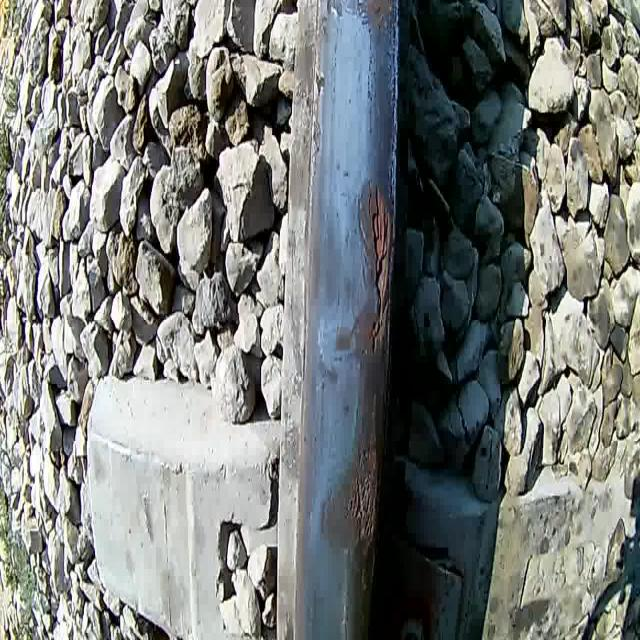Cracks: (353, 175, 375, 302)
Spallings: (366, 178, 394, 364), (346, 443, 379, 554)
Squats: (322, 379, 385, 599), (329, 172, 398, 370), (326, 0, 400, 40)
